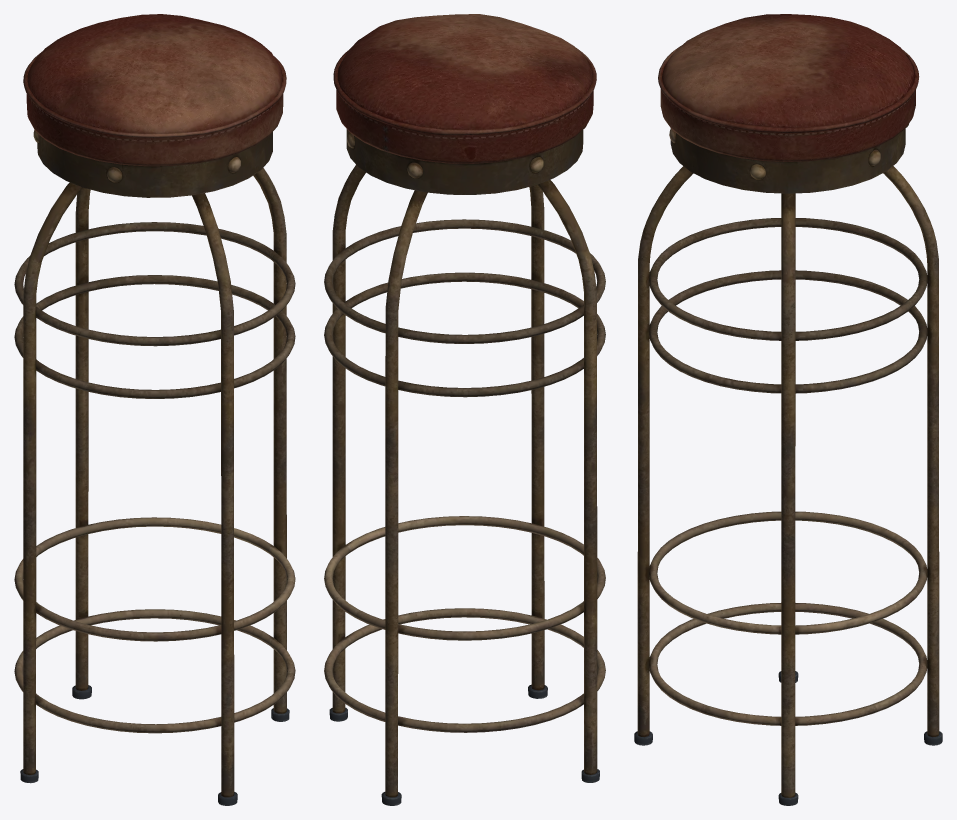
The model's file is ph_stool.glb.
3 views of the same model, side by side, from view 1: azimuth 30°, elevation 25°; view 2: azimuth 150°, elevation 25°; view 3: azimuth 270°, elevation 25° (orthographic).
Parts seen in each view (by area): view 1: metal_stool_01; view 2: metal_stool_01; view 3: metal_stool_01.
Boxes of the visible parts, x1,y1,x2,y2 form: metal_stool_01: [14, 14, 295, 805]; metal_stool_01: [324, 14, 605, 805]; metal_stool_01: [634, 14, 942, 805].
Bounding box in the file's own units: 0.352 × 0.8828 × 0.3546.
1 material, 1 textured.
